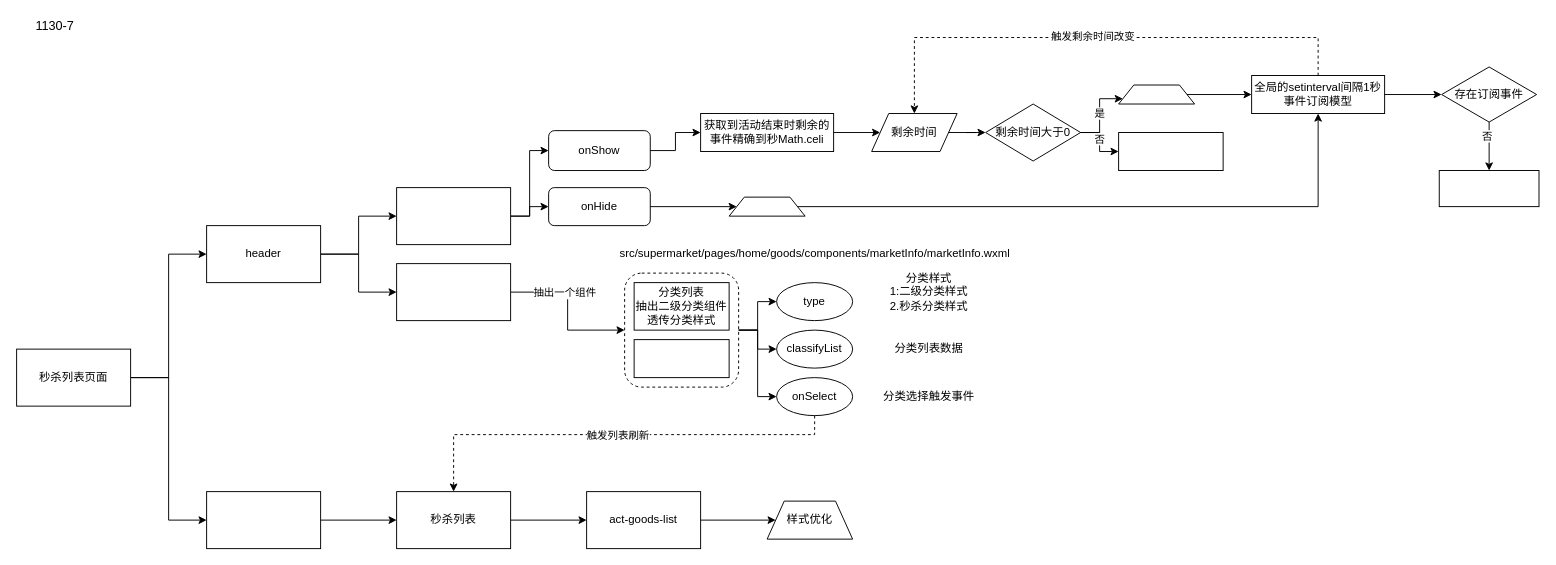
Some shapes in this 1556 by 565 pixel diagram are drawn without their labels. The shapes that lost their labels are listed below. From the top down, each one's centre as x and y in pixels, then its label:
At point 1156,94: "订阅".
At point 1170,151: "获取下一场次的秒杀活动数据，刷新页面".
At point 766,206: "取消订阅".
At point 1488,188: "clearInterval".
At point 453,216: "倒计时组件".
At point 453,292: "分类筛选 组件".
At point 681,358: "分类展开组件 moreClassify".
At point 263,520: "body".
